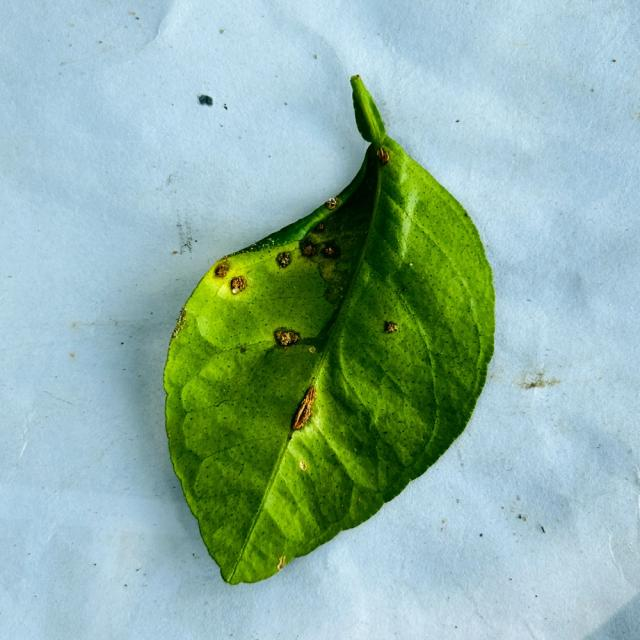Anthracnose: (291, 385, 318, 432), (269, 326, 302, 353), (299, 239, 320, 258), (229, 275, 247, 293), (322, 243, 341, 260), (276, 250, 293, 268), (376, 145, 390, 164), (324, 196, 339, 210), (383, 320, 399, 333), (276, 557, 287, 573)
Lemon: (161, 77, 494, 587)
